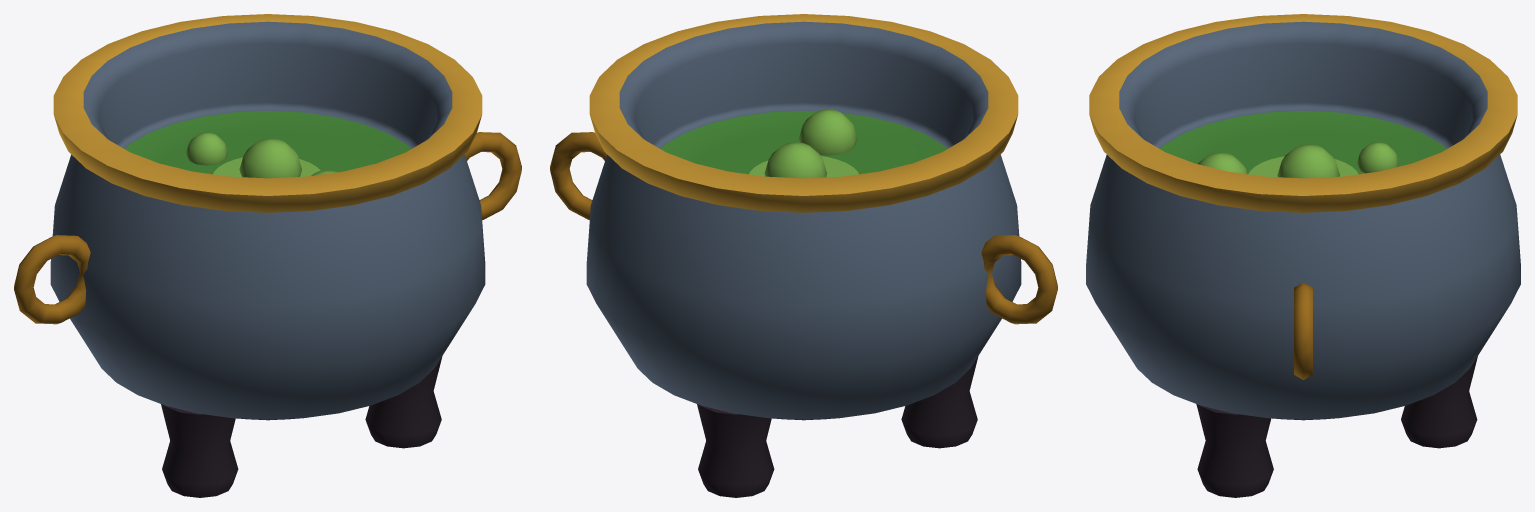
Rendered from Cauldron_09.glb.
The picture shows the model from 3 angles, left to right: view 1: azimuth 30°, elevation 25°; view 2: azimuth 150°, elevation 25°; view 3: azimuth 270°, elevation 25°; orthographic projection.
Visible parts, largest first — view 1: Cauldron_09; view 2: Cauldron_09; view 3: Cauldron_09.
Boxes of the visible parts, x1,y1,x2,y2 form: Cauldron_09: [14, 14, 521, 497]; Cauldron_09: [550, 14, 1057, 497]; Cauldron_09: [1086, 14, 1520, 497].
Size of the model in its own units: 4.28 by 2.7 by 3.18.
